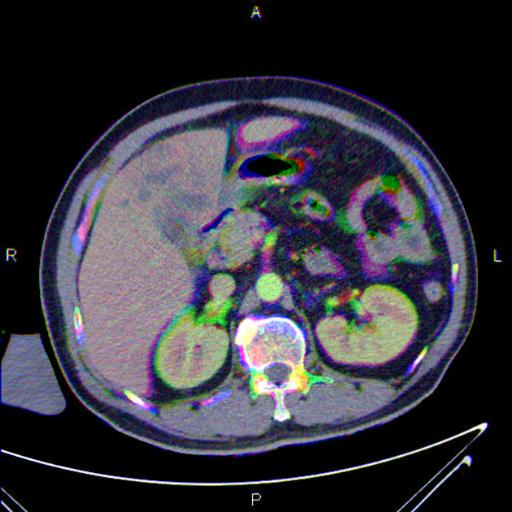Abscess: (138, 138, 202, 252)
